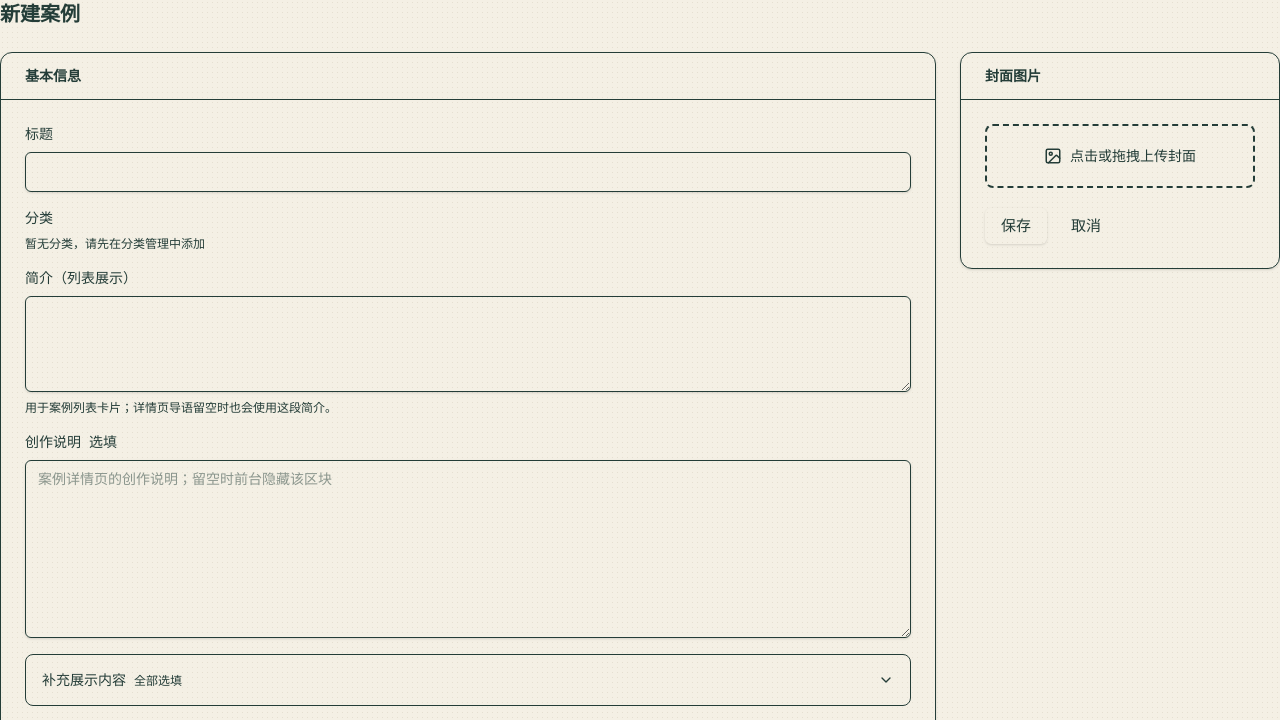
Test: blocks submit and shows errors when required fields are missing
The width and height of the screenshot is (1280, 720).
Click the button "保存". click: (1016, 226)
box: [985,208,1047,244]
(page scrolled)
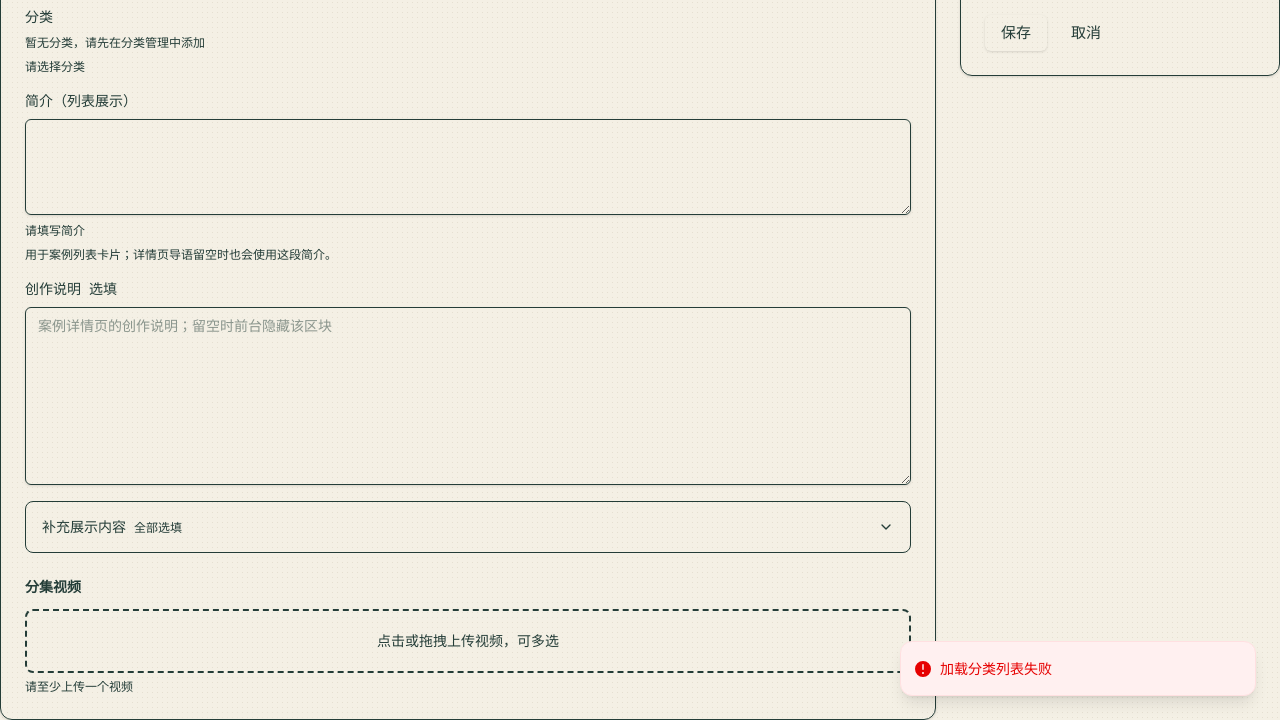
Check: the text "请填写简介" is shown, box [25,222,85,239]
Check: the text "请至少上传一个视频" is shown, box [25,678,133,694]
